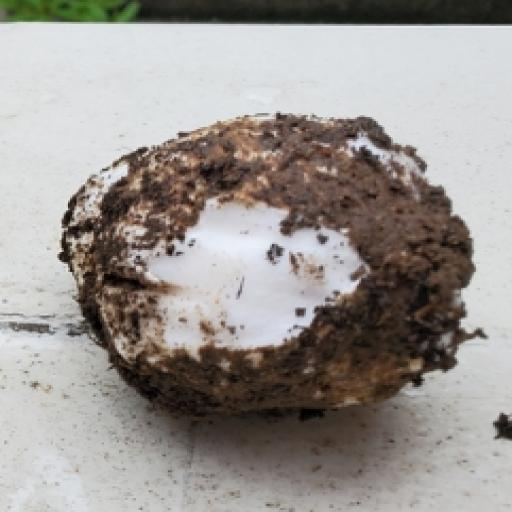mushroom: (109, 147, 378, 402)
